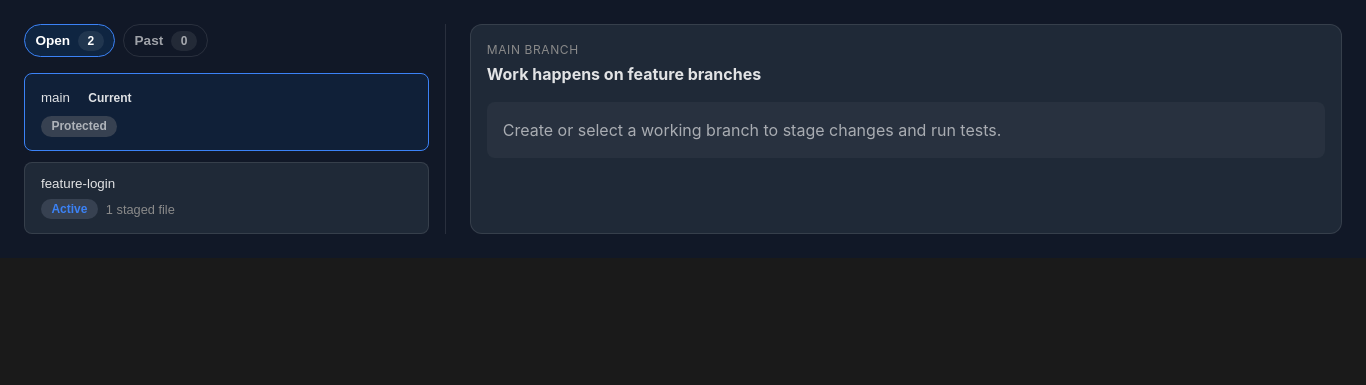
BranchTab › merge action hides when staged files invalidate tests
Expected: the button with test id "branch-list-item-main" is shown, [24, 73, 429, 151]
Step 1. Click the button with test id "branch-list-item-feature-login" → click(78, 184), box [24, 162, 429, 234]
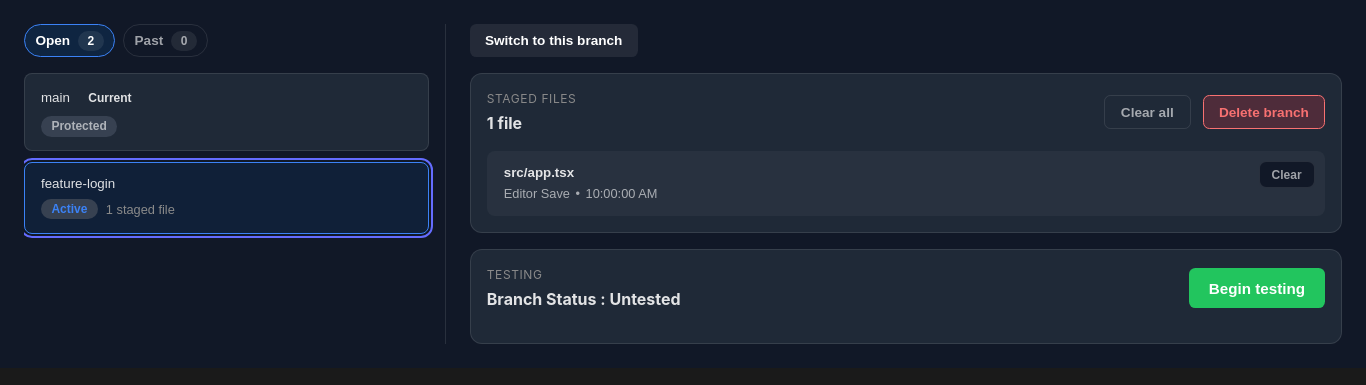
Result: the list with test id "branch-file-list" is shown at [487, 151, 1325, 216]
